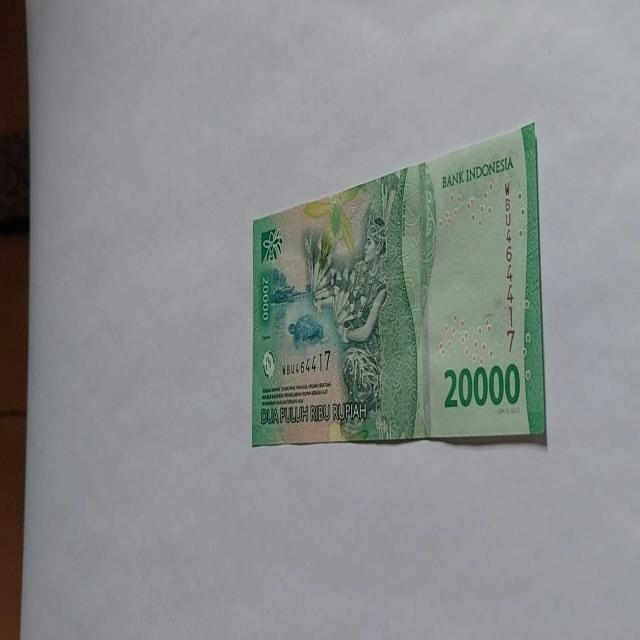dua puluh ribu rupiah: (250, 120, 548, 449), (301, 161, 437, 442)
